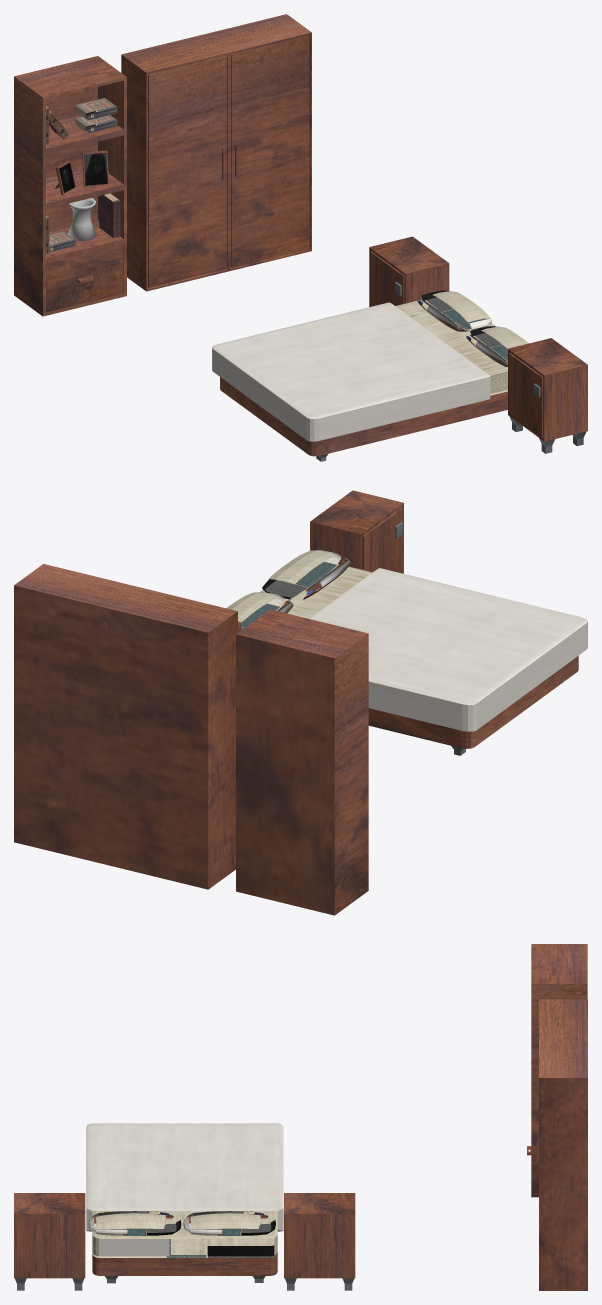
Rendered from BedroomBig.fbx.
3 views of the same model, one above another, from view 1: azimuth 30°, elevation 25°; view 2: azimuth 150°, elevation 25°; view 3: azimuth 270°, elevation 25° (orthographic). The views are drawn at different scales.
Parts seen in each view (by area): view 1: Cama 2 plazas; view 2: Cama 2 plazas; view 3: Cama 2 plazas.
Boxes of the visible parts, left/top/right/bottom form: Cama 2 plazas: left=14, top=14, right=587, bottom=461; Cama 2 plazas: left=14, top=490, right=587, bottom=915; Cama 2 plazas: left=14, top=944, right=587, bottom=1290.
Bounding box in the file's own units: 223 × 170 × 407.
